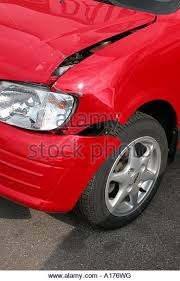Dent: (47, 73, 136, 150)
Scratch: (34, 52, 62, 71)
